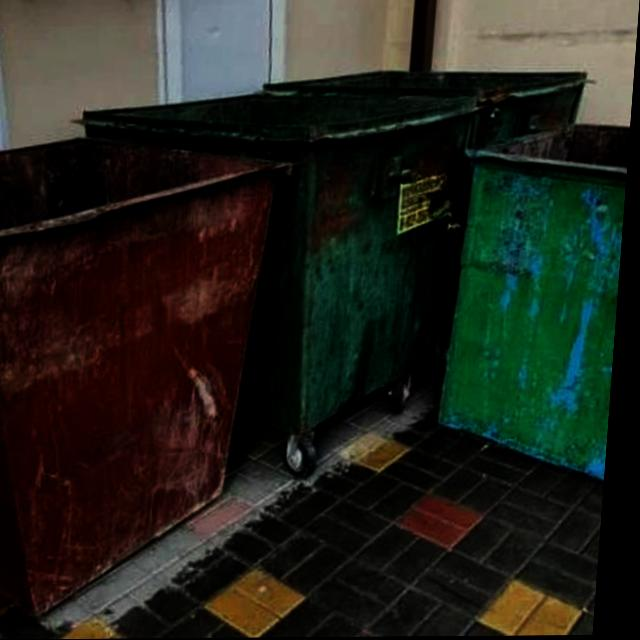Trash_Can_Empty: (64, 91, 487, 436), (0, 140, 289, 614), (445, 125, 632, 480), (264, 72, 595, 147)
